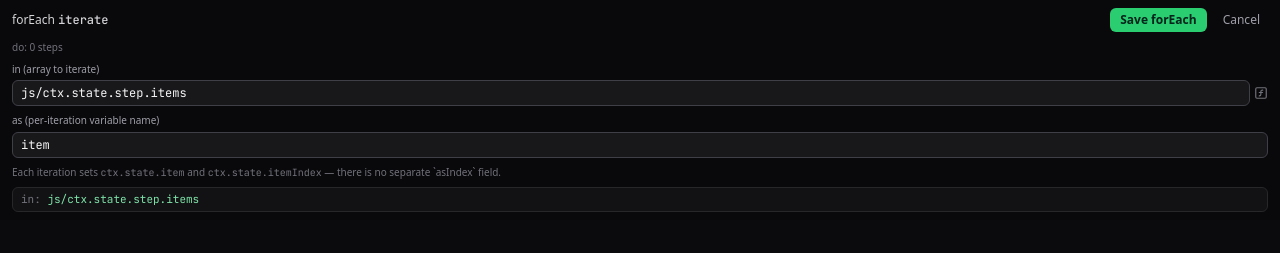
it: ForEachEditor — structural save › requires a non-empty `as`
This screenshot has width=1280, height=253.
Clear the field labelled "as" at coordinates (640, 145), box left=12, top=132, right=1268, bottom=158
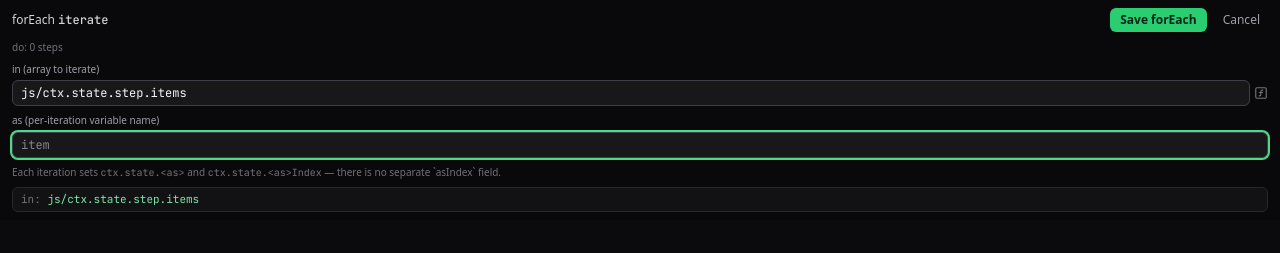
Click the button "Save forEach" at coordinates (1158, 20), box left=1110, top=8, right=1207, bottom=32
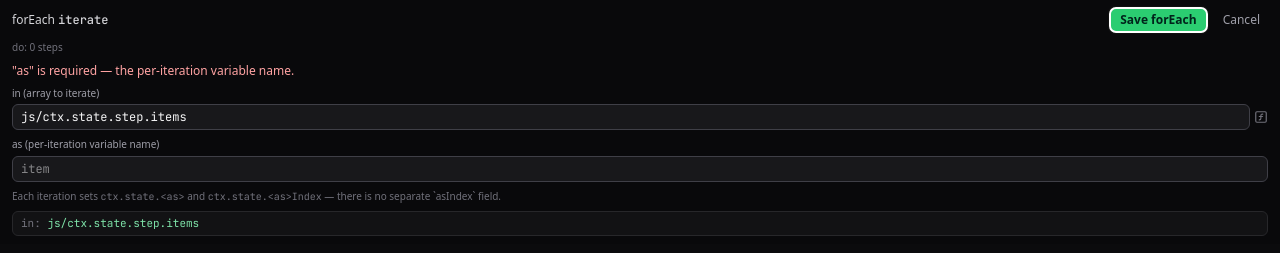
Now the text "\"as\" is required — the per-iteration variable name." is shown, box left=12, top=62, right=294, bottom=79
